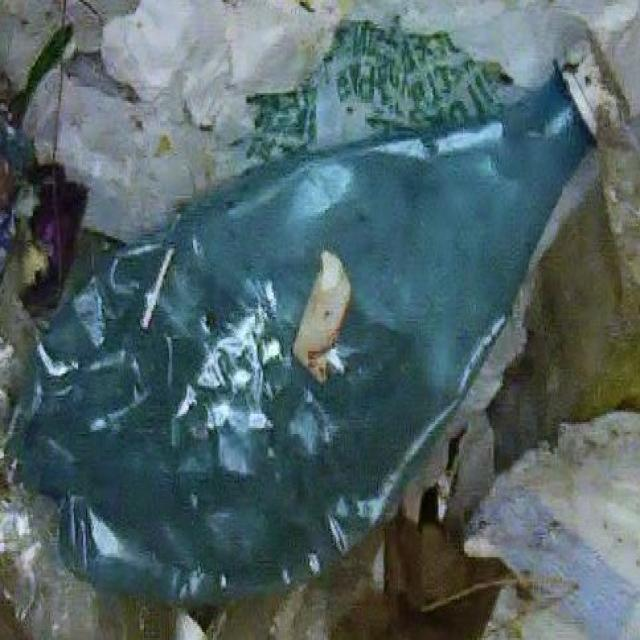litter: (14, 51, 640, 590)
